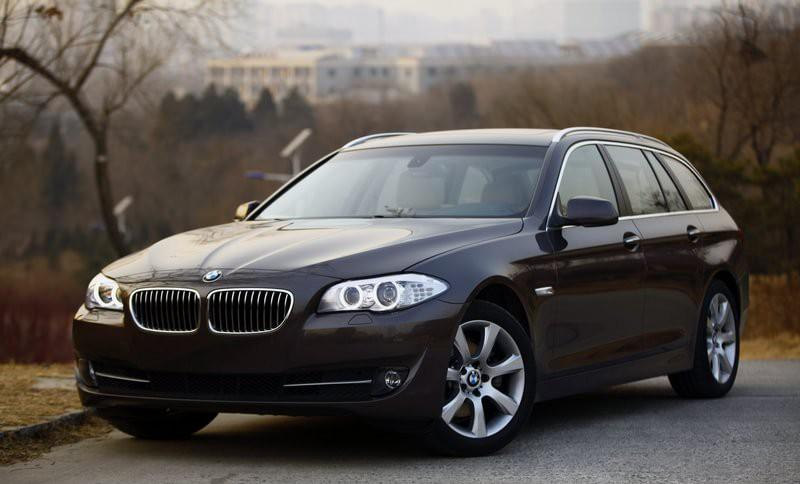Wagon: (71, 126, 751, 456)
